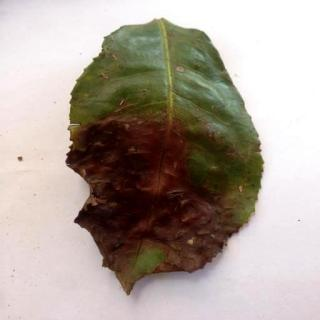Algal Leaf: (69, 19, 264, 297)
